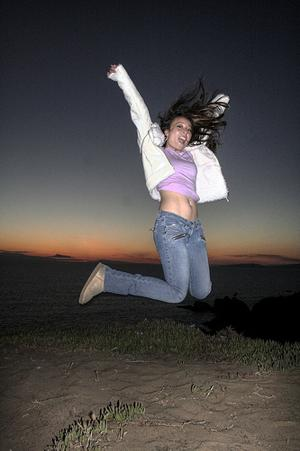person: (78, 59, 229, 311)
